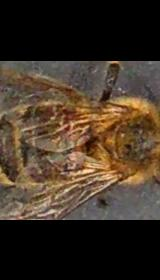varroa_mite: (60, 103, 87, 140)
